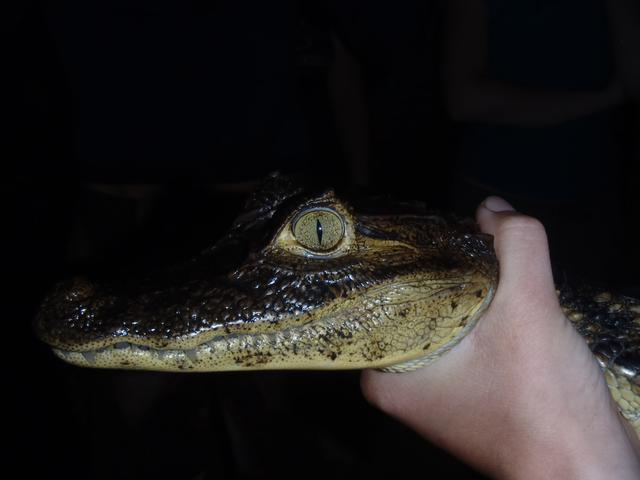crocodile: (20, 155, 565, 443)
